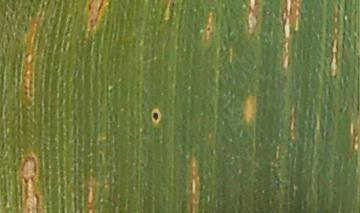tarspot: (148, 107, 166, 128), (203, 25, 215, 35)
